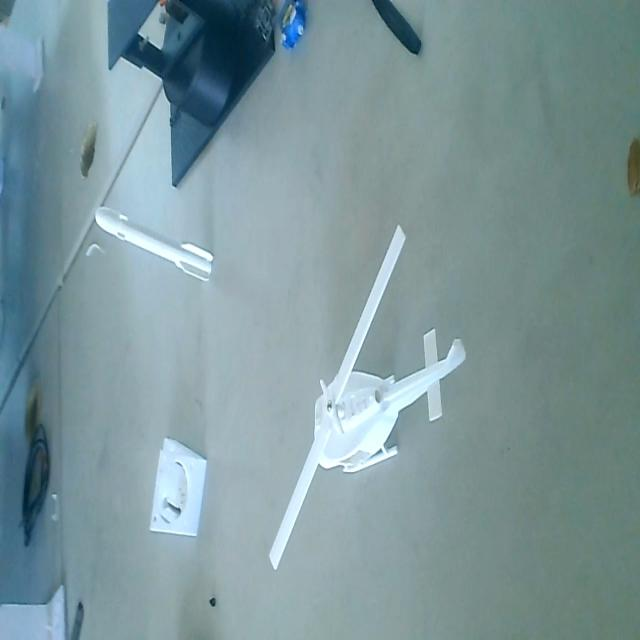Helicopter: (267, 225, 469, 575)
Rocket: (90, 202, 216, 286)
